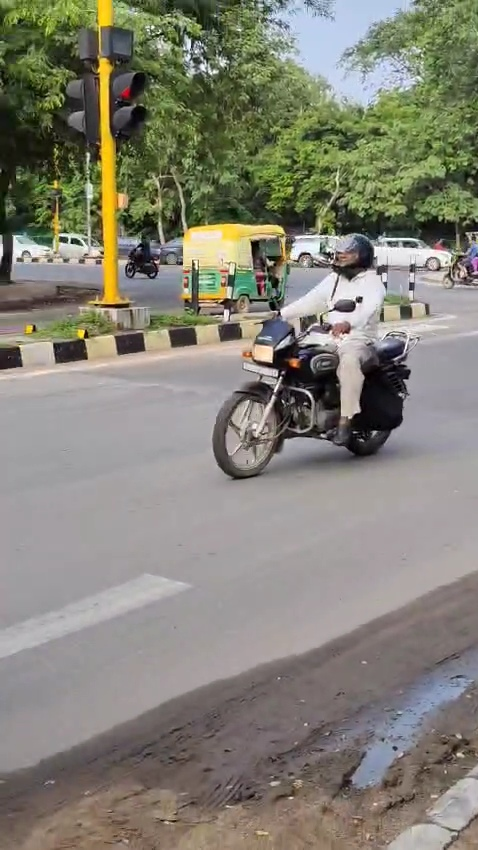BikeWithRider: (194, 212, 435, 492)
Helmet: (327, 227, 380, 278)
